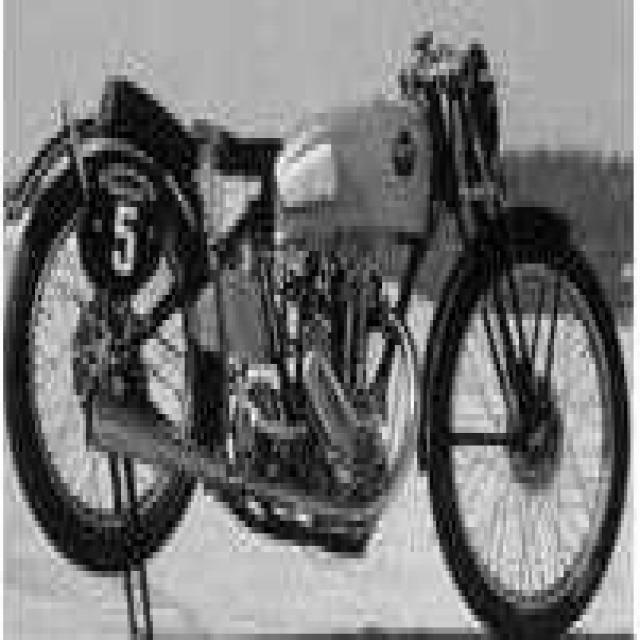Motorcycle: (5, 27, 629, 637)
